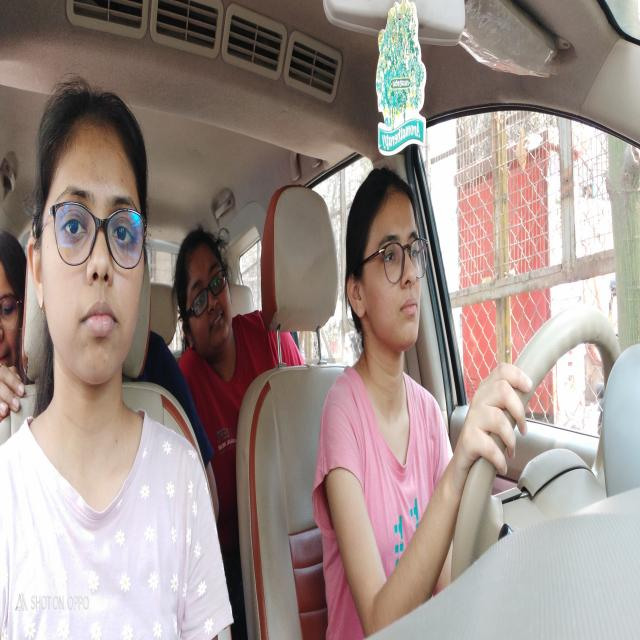person: (41, 118, 145, 383), (350, 196, 424, 349), (179, 243, 238, 351), (0, 247, 26, 394)
